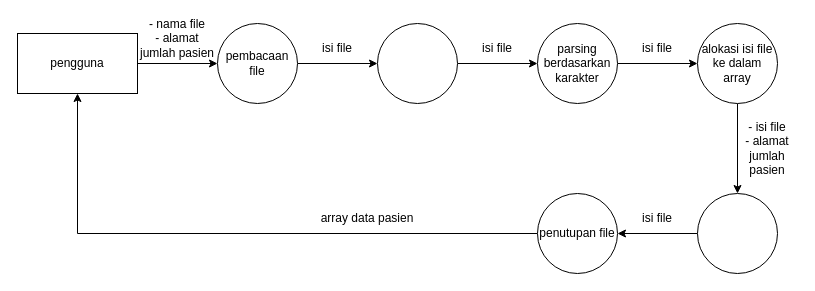
Image size: 815x291. Some labels were removed from this diagram. The shapes that lost their labels are listed below. From the top down, each one's centre as x and y in pixels, then its label:
the point at 417,63: iterasi file
the point at 737,233: update jumlah pasien
